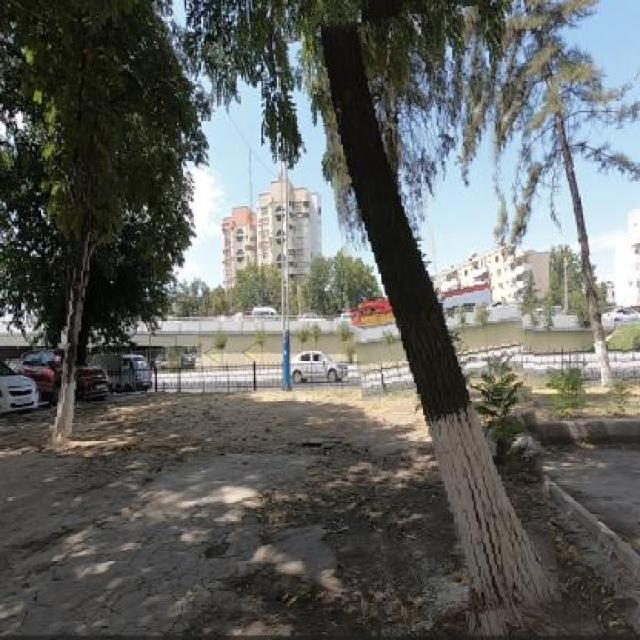tree trunk: (332, 9, 542, 620), (525, 35, 633, 388), (52, 209, 103, 451)
